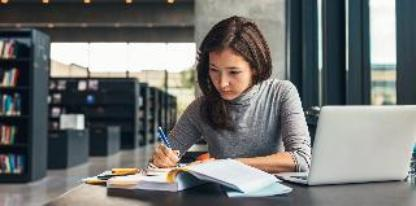person: (157, 12, 315, 201)
